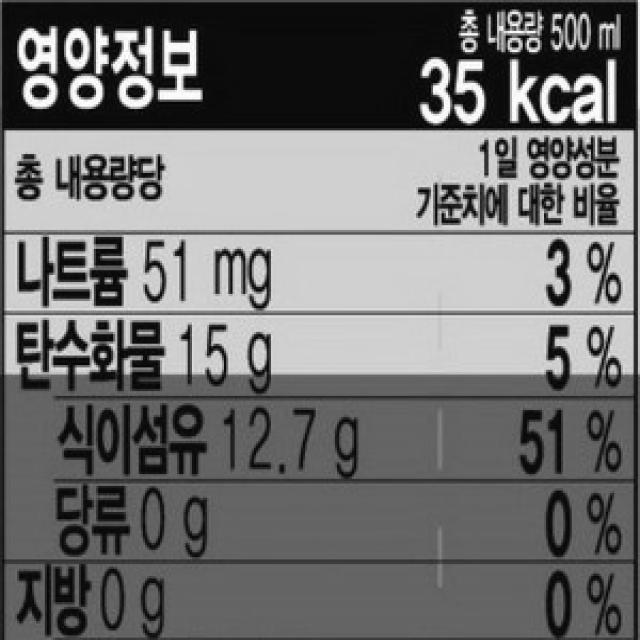Nutrition Label: (2, 6, 638, 640)
